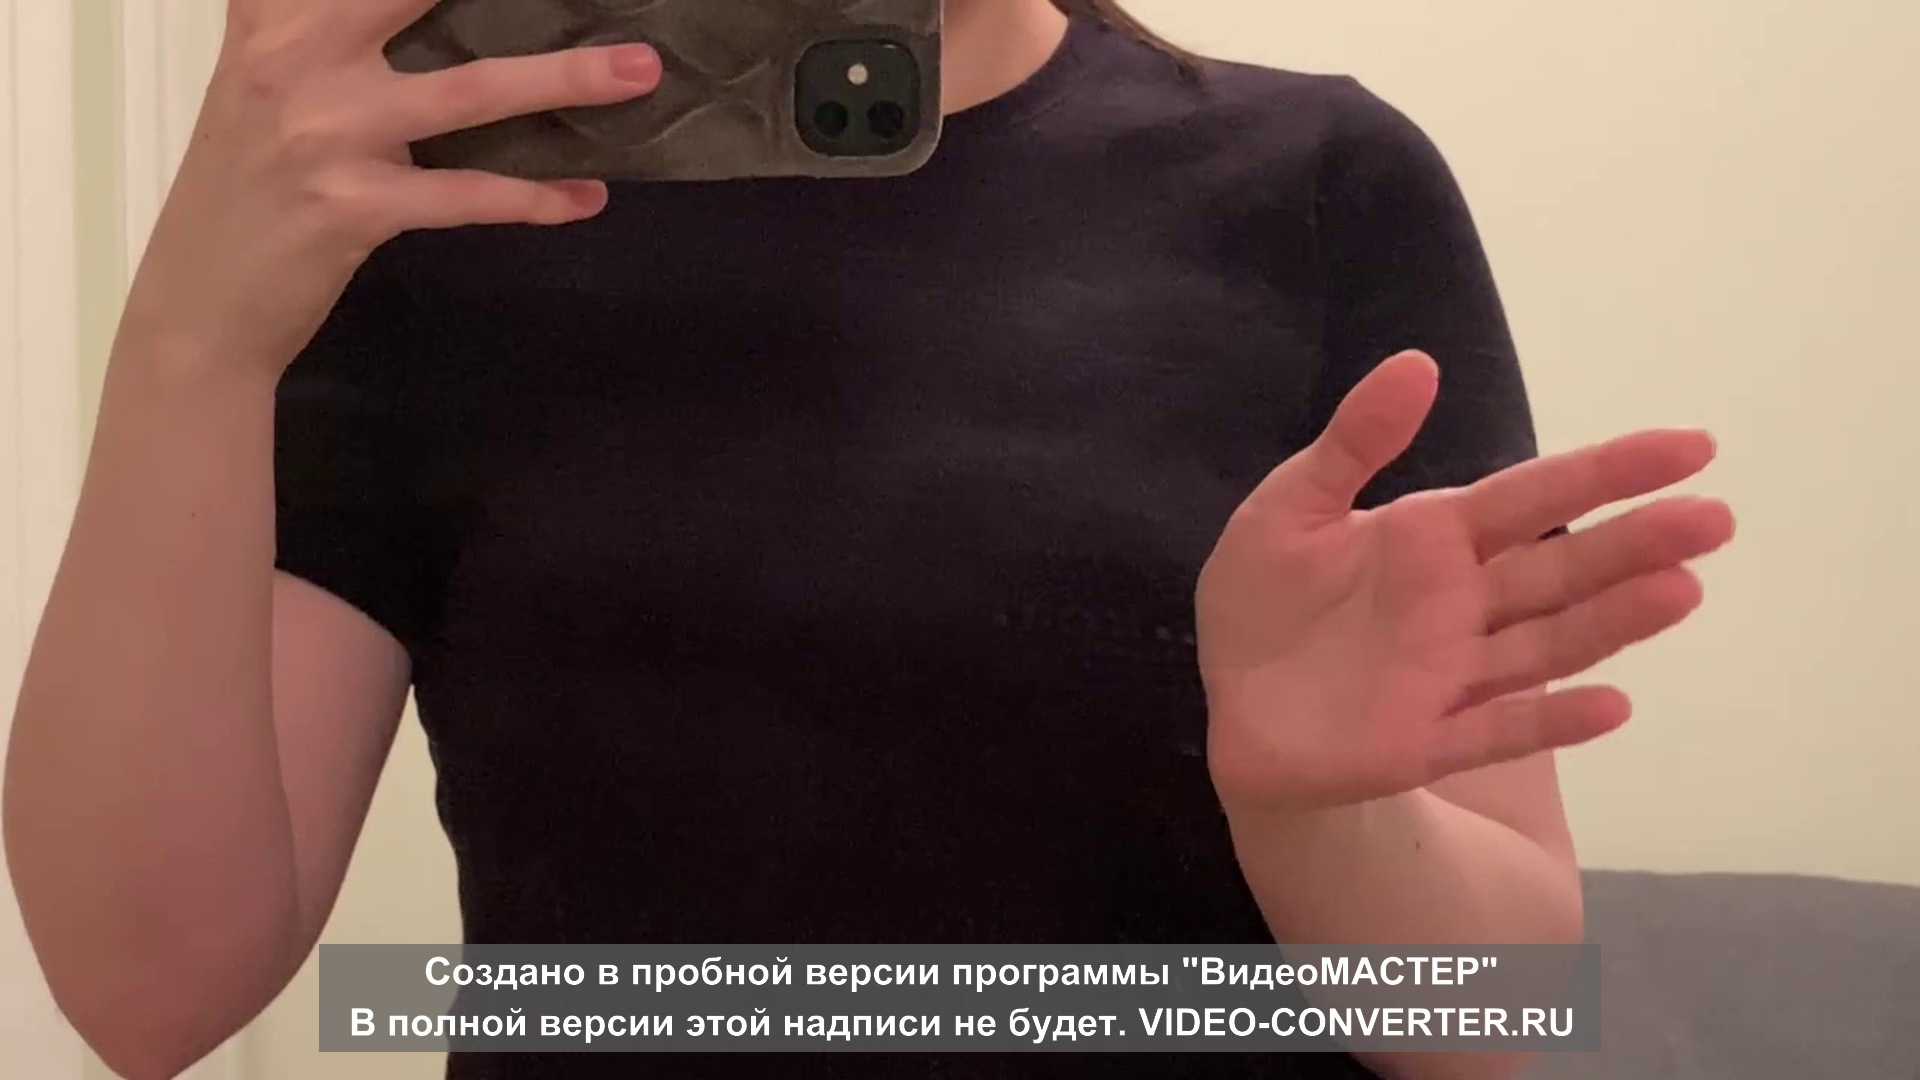Ладонь: (1188, 345, 1735, 796)
